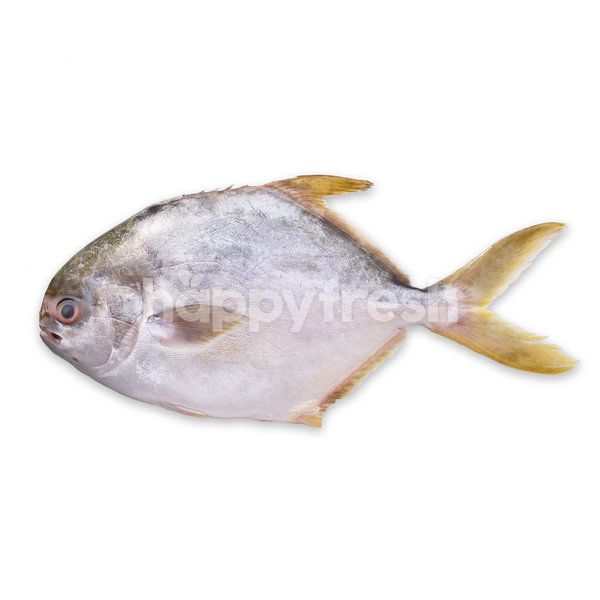Ikan Bawal: (26, 160, 590, 441)
